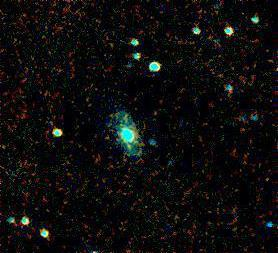star: (116, 133, 146, 163)
